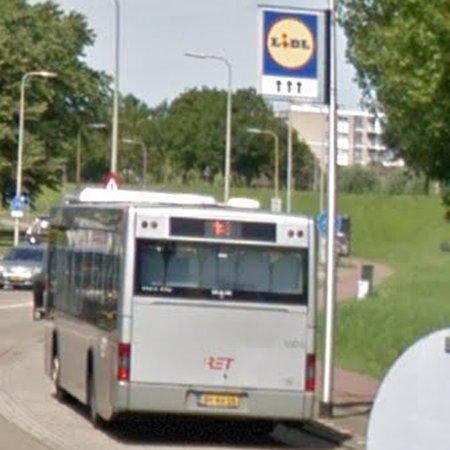buses: (46, 188, 319, 422)
